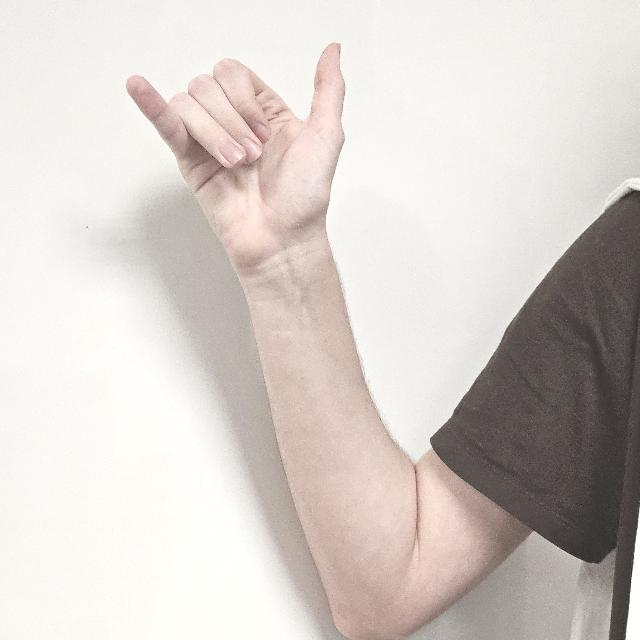Direita: (122, 44, 356, 278)
